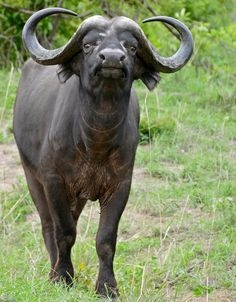buffalo: (12, 6, 193, 298)
